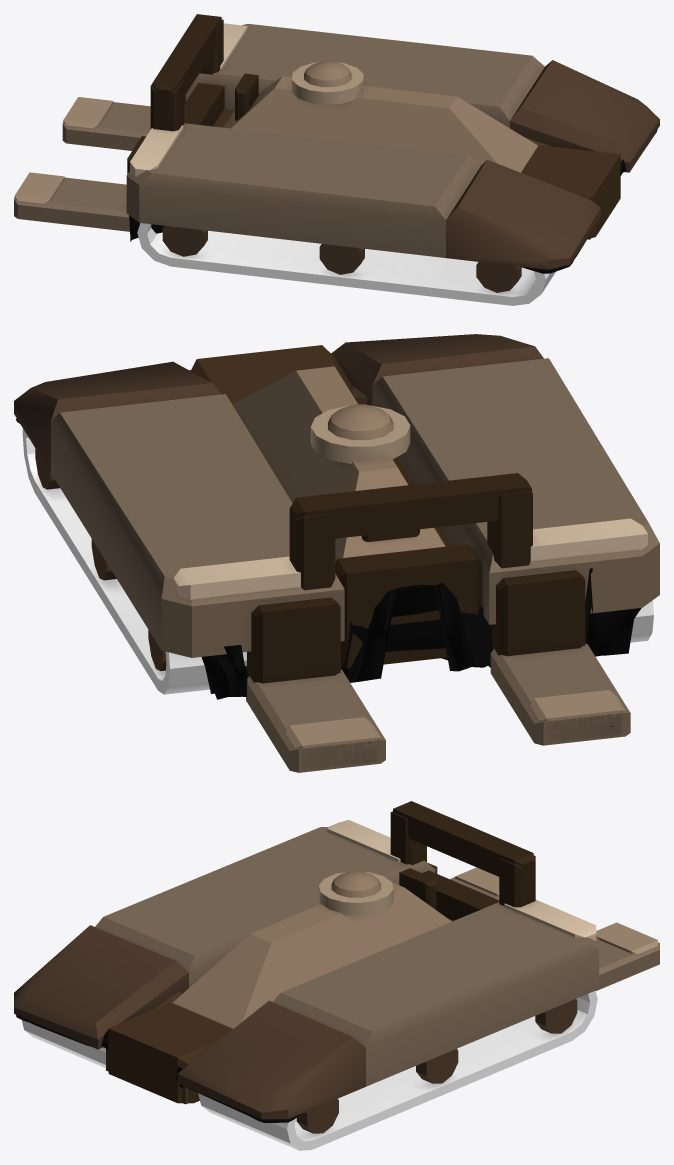
Rendered from newsh3-14-f6.glb.
3 views of the same model, one above another, from view 1: azimuth 30°, elevation 25°; view 2: azimuth 150°, elevation 25°; view 3: azimuth 270°, elevation 25° (orthographic). The views are drawn at different scales.
Parts seen in each view (by area): view 1: newsh3-14-f6, newsh3-14-f6_outline; view 2: newsh3-14-f6, newsh3-14-f6_outline; view 3: newsh3-14-f6, newsh3-14-f6_outline.
Part boxes in pixels (x1=…): newsh3-14-f6: x1=14, y1=14, x2=659, y2=305; newsh3-14-f6_outline: x1=129, y1=129, x2=657, y2=273; newsh3-14-f6: x1=14, y1=334, x2=659, y2=772; newsh3-14-f6_outline: x1=16, y1=353, x2=641, y2=726; newsh3-14-f6: x1=14, y1=801, x2=659, y2=1150; newsh3-14-f6_outline: x1=16, y1=1014, x2=300, y2=1122.
Size of the model in its own units: 1.5 by 0.3708 by 1.5.
Materials: 12 (11 with a texture image).
